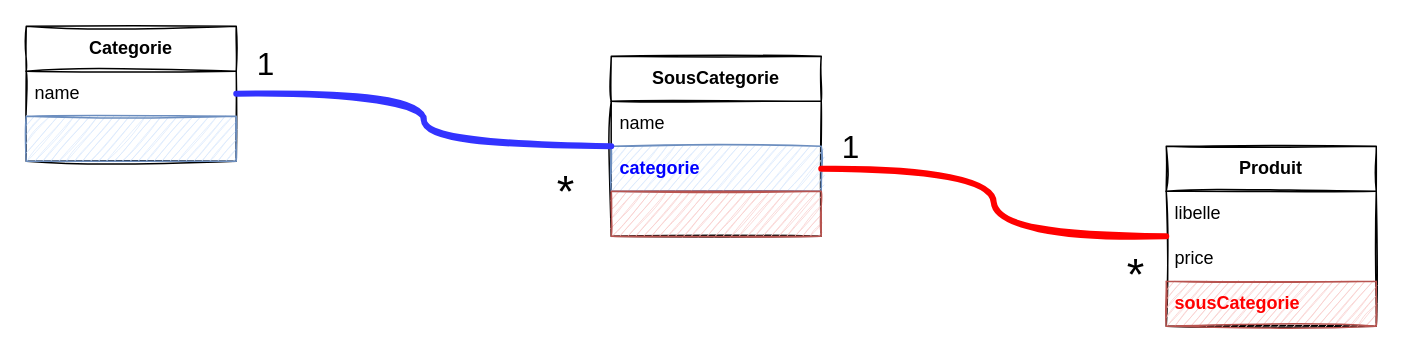
Image size: 1403x353. Some labels were removed from this diagram. The centre of each missing label's shape, as x and y in pixels:
"produits" goes at pixel 715 213.
"sousCategories" goes at pixel 130 138.
